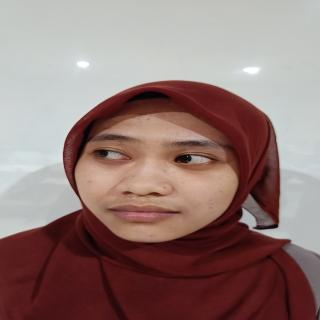Takut: (78, 93, 244, 248)
